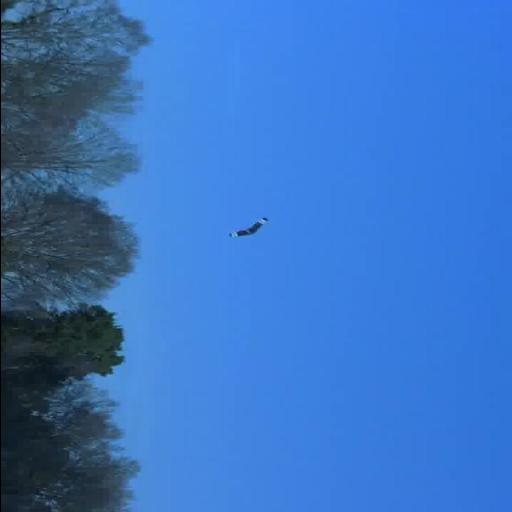uav: (223, 214, 273, 242)
